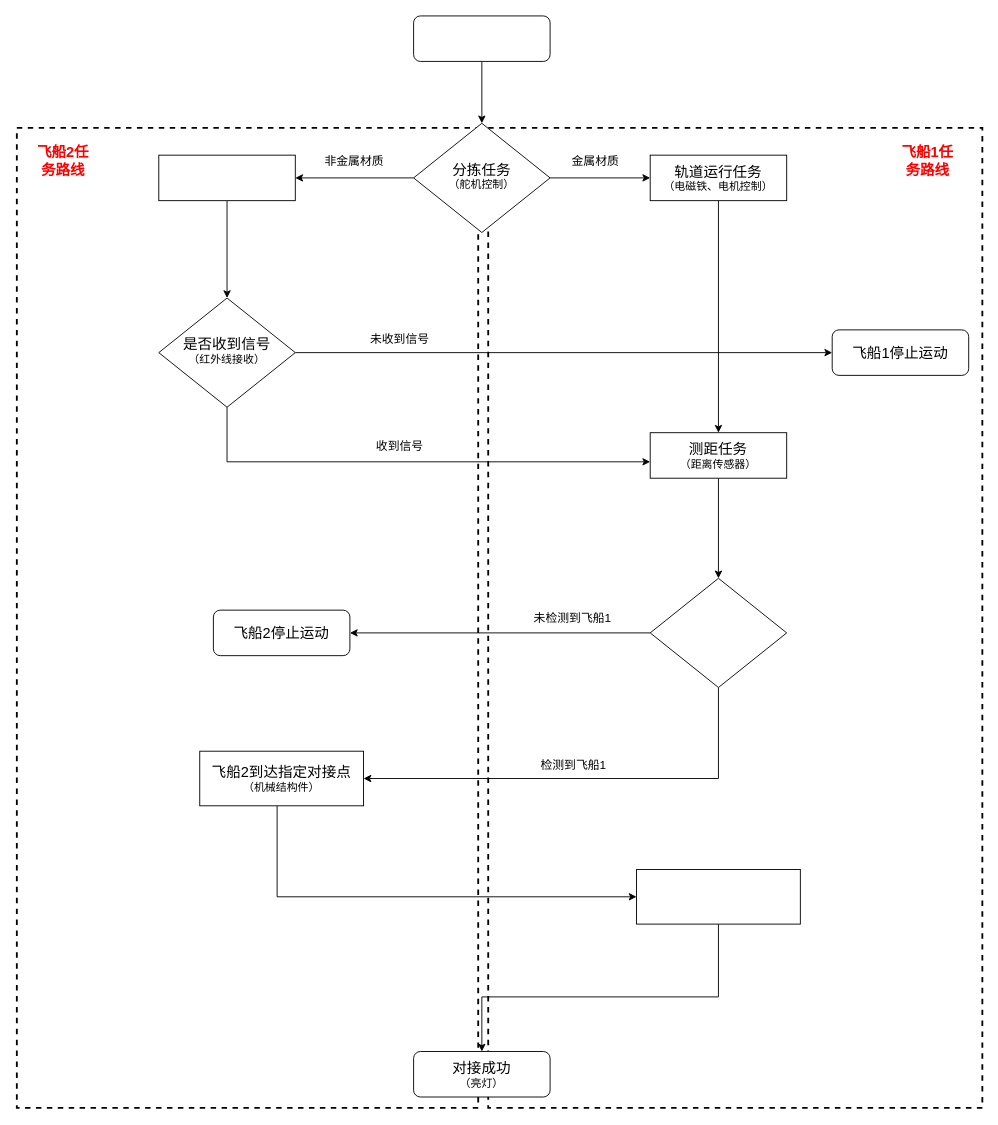
Image size: 998x1125. Some labels were removed from this diagram. The shapes that lost their labels are listed below. From the top down, each one's box as (x1, y1, x2, y2) in pixels, then its label:
(413, 15, 550, 61): 发射任务
(158, 154, 295, 201): 发送信号任务 （触碰开关、红外线发射）
(649, 577, 787, 688): 是否检测 到飞船1
(636, 869, 800, 924): 飞船1到达指定对接点
